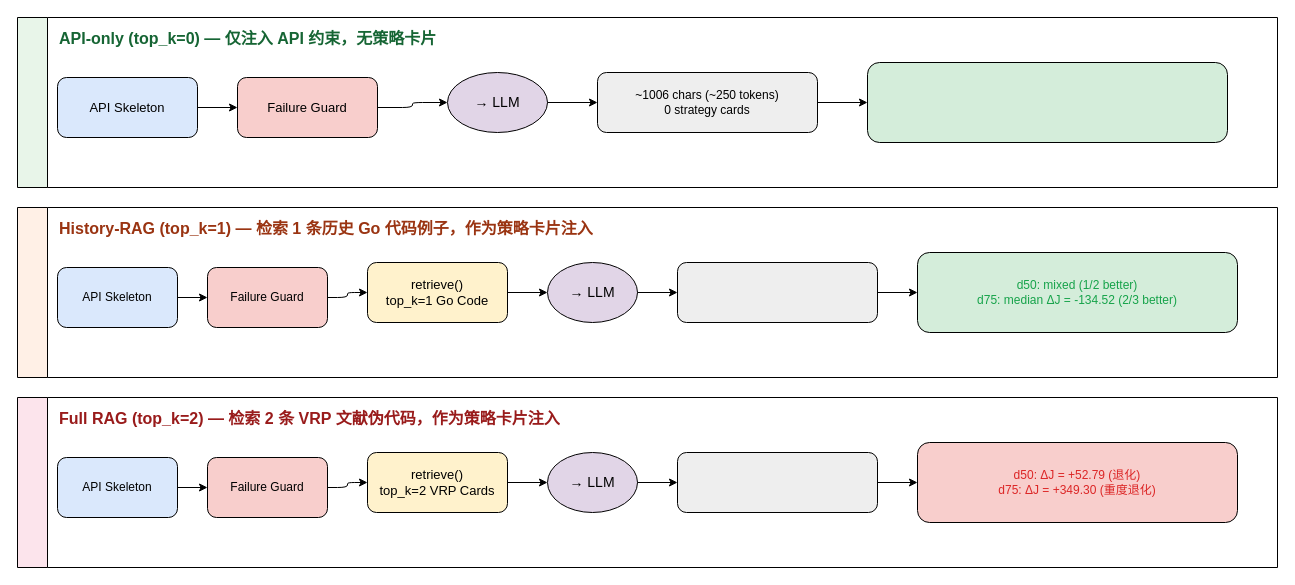
Image size: 1295x585. Some labels were removed from this diagram. The centre of each missing label's shape, as x and y in pixels:
d50: median ΔJ = -95.44 (2/3 better) d75: inconclusive (1/1/1): the point at 1047,102
~1500 chars (~375 tokens) 1 code example: the point at 777,292
~2500 chars (~625 tokens) 2 VRP cards: the point at 777,482
